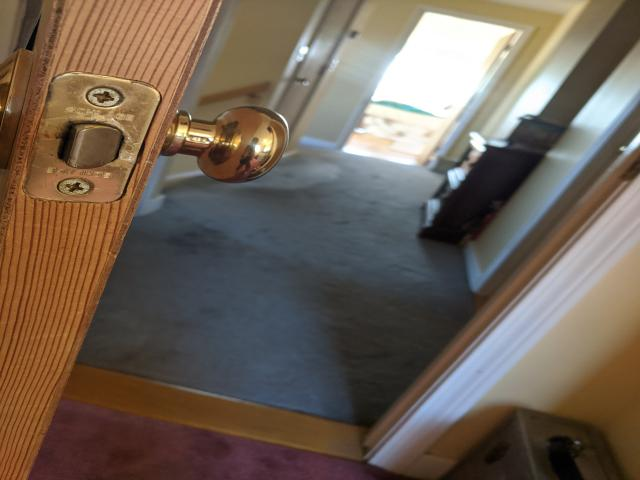CRS: (56, 177, 95, 197), (88, 86, 121, 108)
